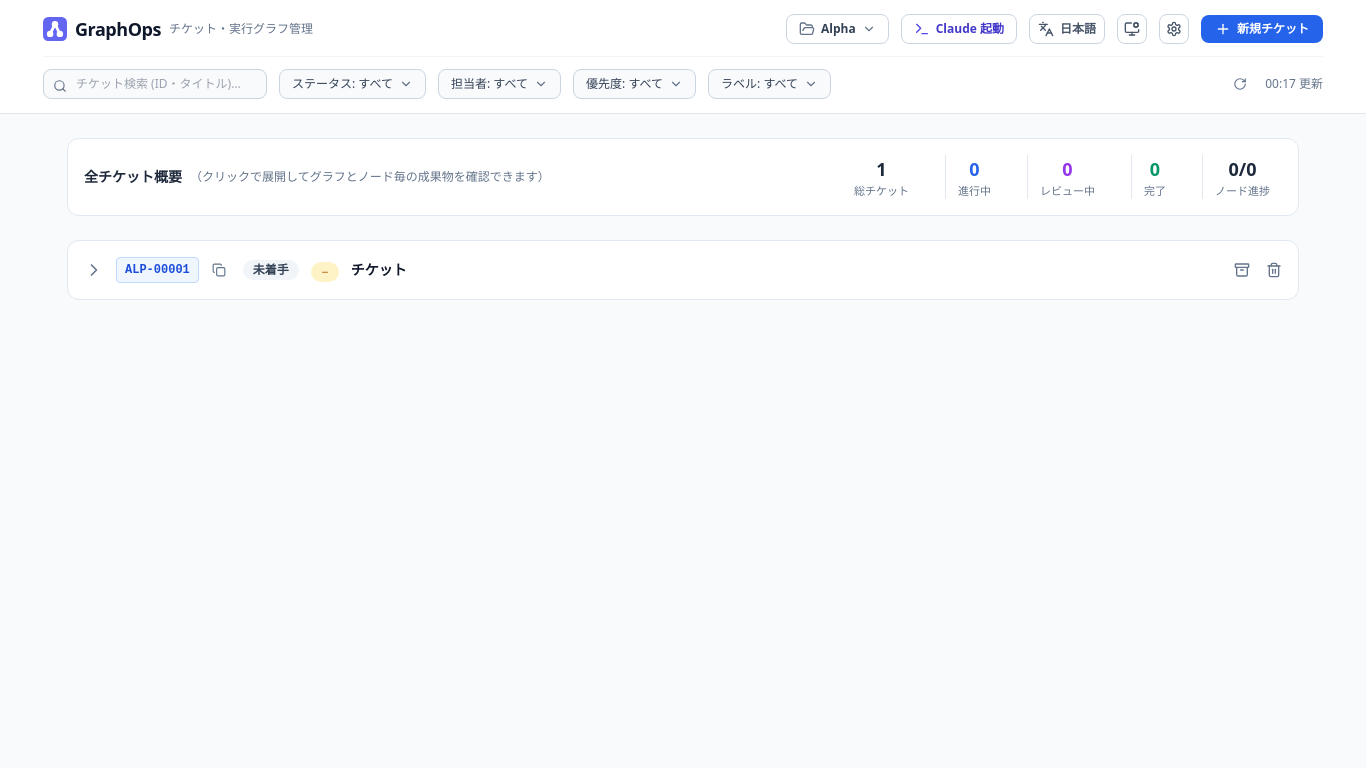
Test case: full project name in the switcher's tooltip and popup (ja) › wraps every item's name in the popup instead of truncating it
Expected: the text "ALP-00001" is shown, [116, 257, 199, 283]
Click the button "Alpha": [837, 29] box [786, 14, 889, 44]
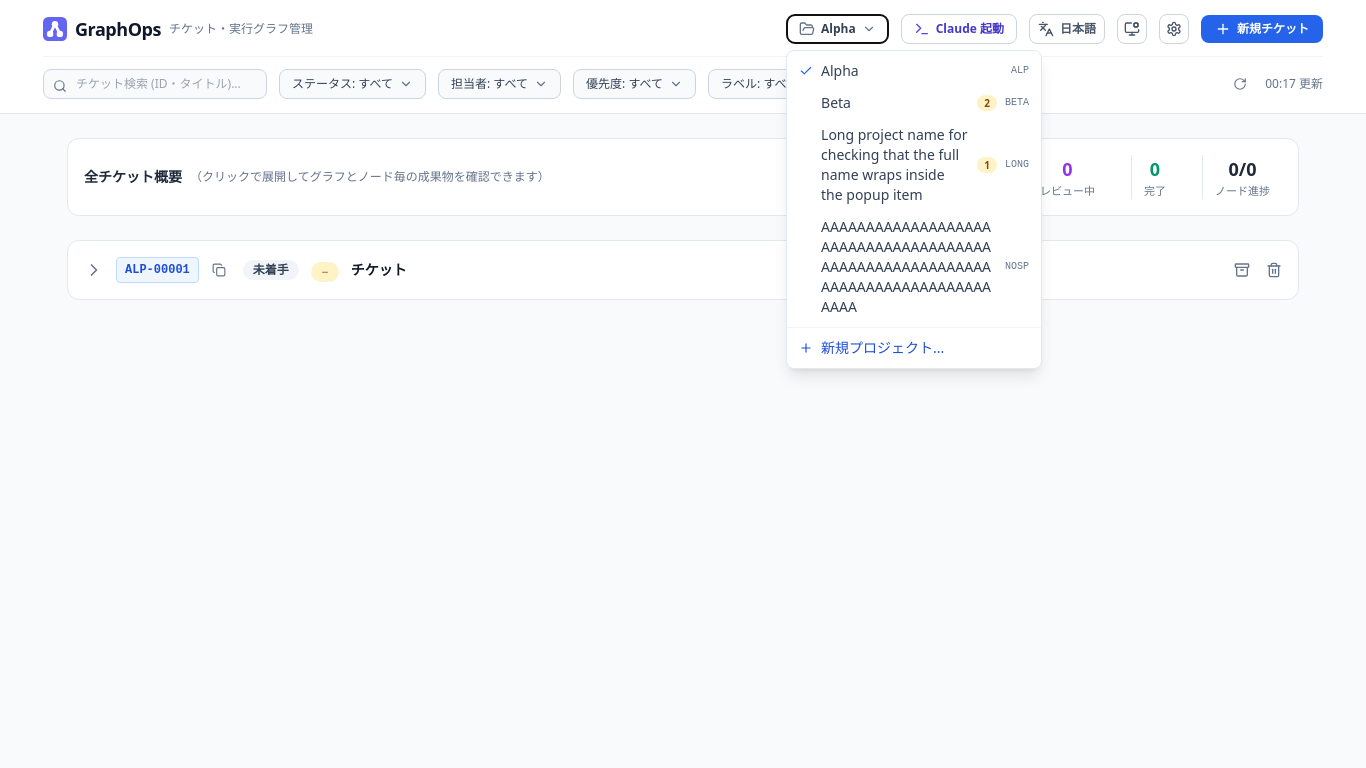
Expected: the text "Alpha" is shown, [821, 61, 859, 81]
Expected: the text "Beta" is shown, [821, 93, 851, 113]
Expected: the text "Long project name for checking that the full name wraps inside the popup item" is shown, [821, 125, 969, 205]
